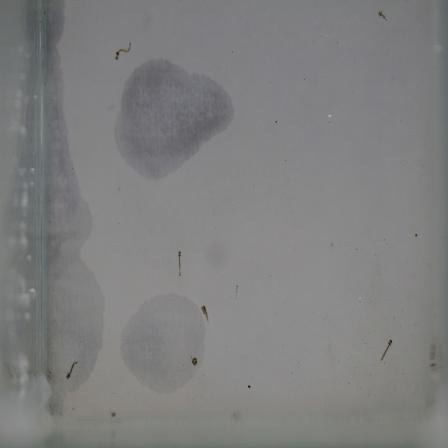Jentik-Nyamuk: (110, 39, 141, 63), (377, 334, 397, 367), (173, 248, 191, 283), (62, 358, 81, 384), (198, 303, 217, 329)
